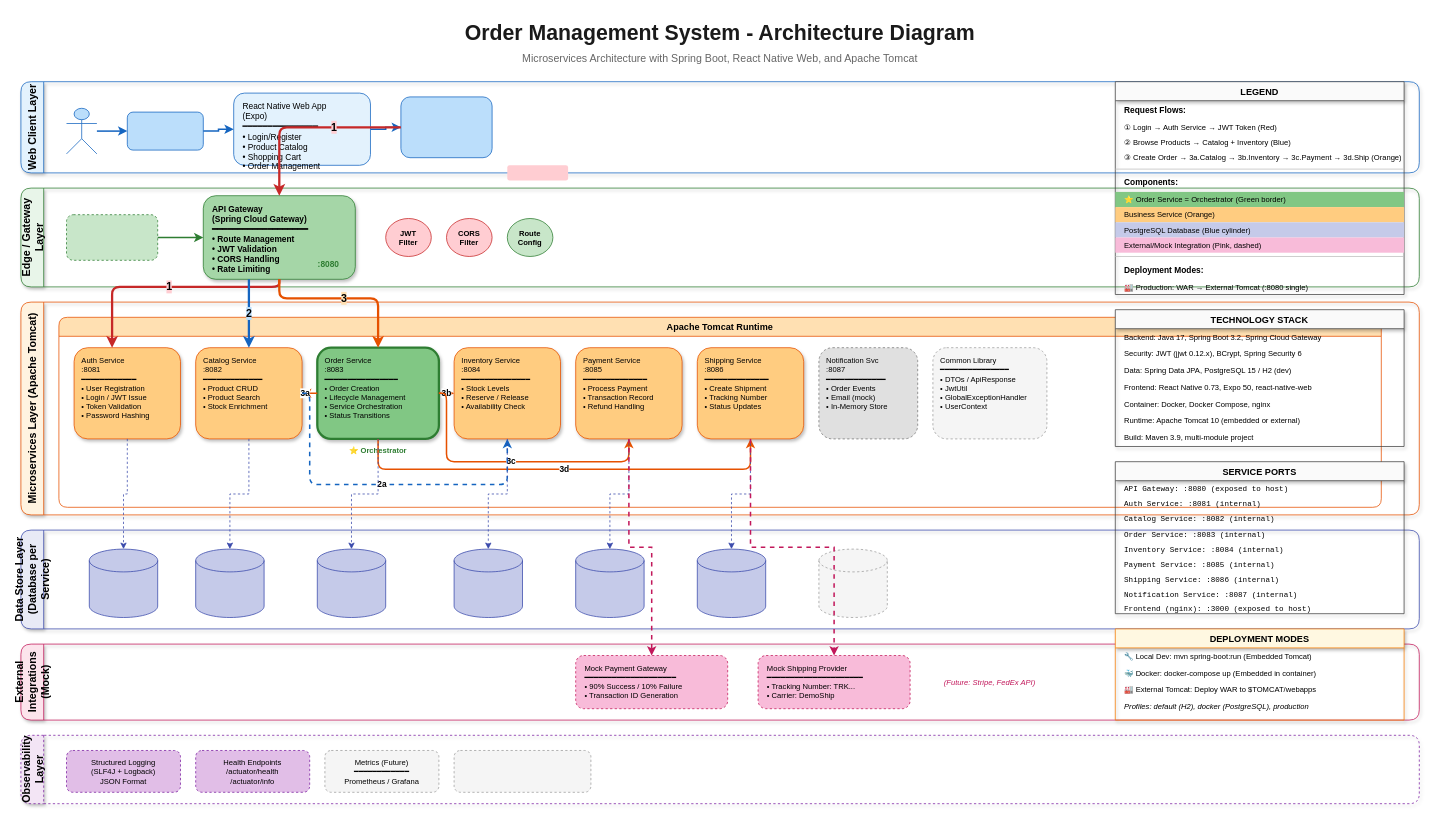
Some shapes in this 1437 by 822 pixel diagram are drawn without their labels. The shapes that lost their labels are listed below. From the top down, each one's centre as x and y in pixels, then its label:
point 81,131: User
point 165,130: Web Browser
point 446,127: API Client (Axios) ━━━━━━━━━━ JWT Token Management
point 537,172: Login Request
point 112,237: Load Balancer (nginx / cloud LB)
point 123,583: AuthDB PostgreSQL ━━━━━━━━ users
point 229,583: CatalogDB PostgreSQL ━━━━━━━━━ products
point 351,583: OrderDB PostgreSQL ━━━━━━━━━ orders order_items
point 487,583: InventoryDB PostgreSQL ━━━━━━━━━━ inventory
point 609,583: PaymentDB PostgreSQL ━━━━━━━━━━ payments
point 731,583: ShippingDB PostgreSQL ━━━━━━━━━━ shipments
point 852,583: H2 In-Memory (Dev Mode)
point 522,771: Distributed Tracing (Future) ━━━━━━━━━━━━━━━━━━━ Zipkin / Jaeger
